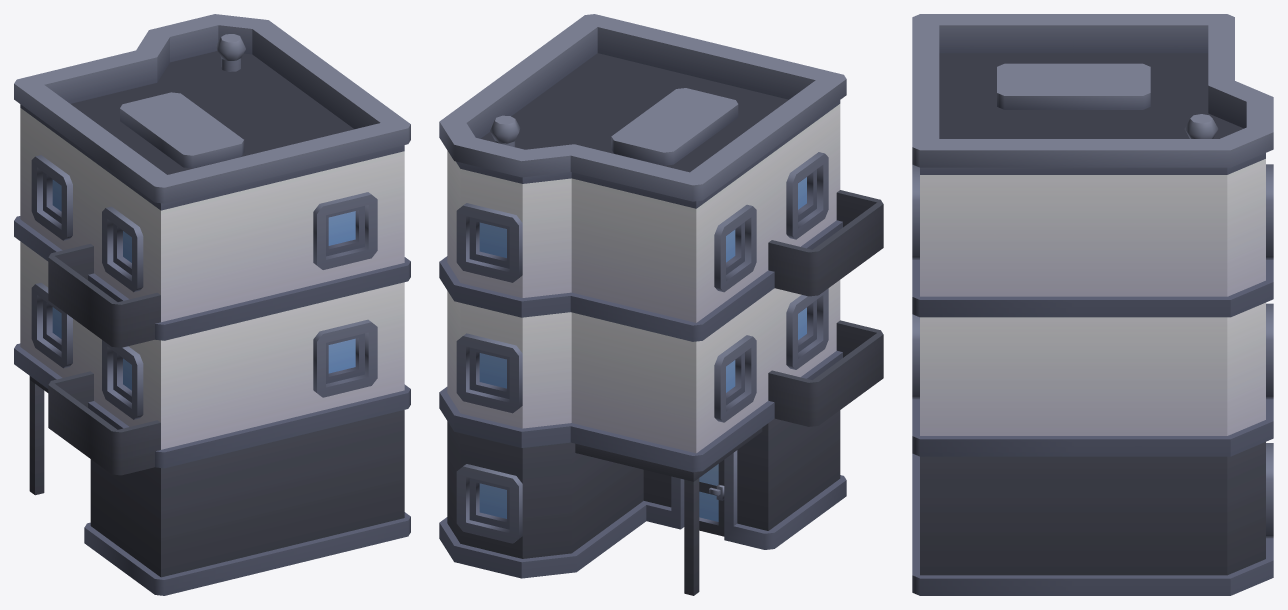
Rendered from building-b.glb.
The picture shows the model from 3 angles, left to right: view 1: azimuth 30°, elevation 25°; view 2: azimuth 150°, elevation 25°; view 3: azimuth 270°, elevation 25°; orthographic projection. The views are drawn at different scales.
Visible parts, largest first — view 1: building-b; view 2: building-b; view 3: building-b.
Part boxes in pixels (x1,y1,x2,y2): building-b: (14,14,410,595); building-b: (439,14,883,595); building-b: (912,14,1273,595).
Bounding box in the file's own units: 0.9701 × 1.29 × 0.94.
Materials: 1 (1 with a texture image).
